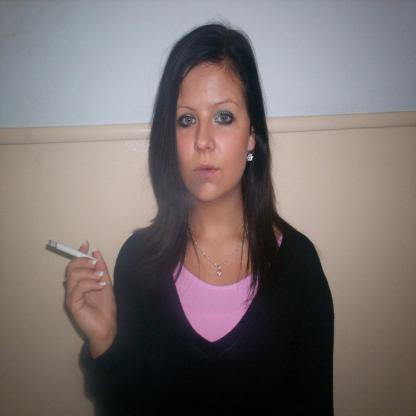smoking: (48, 240, 97, 264)
